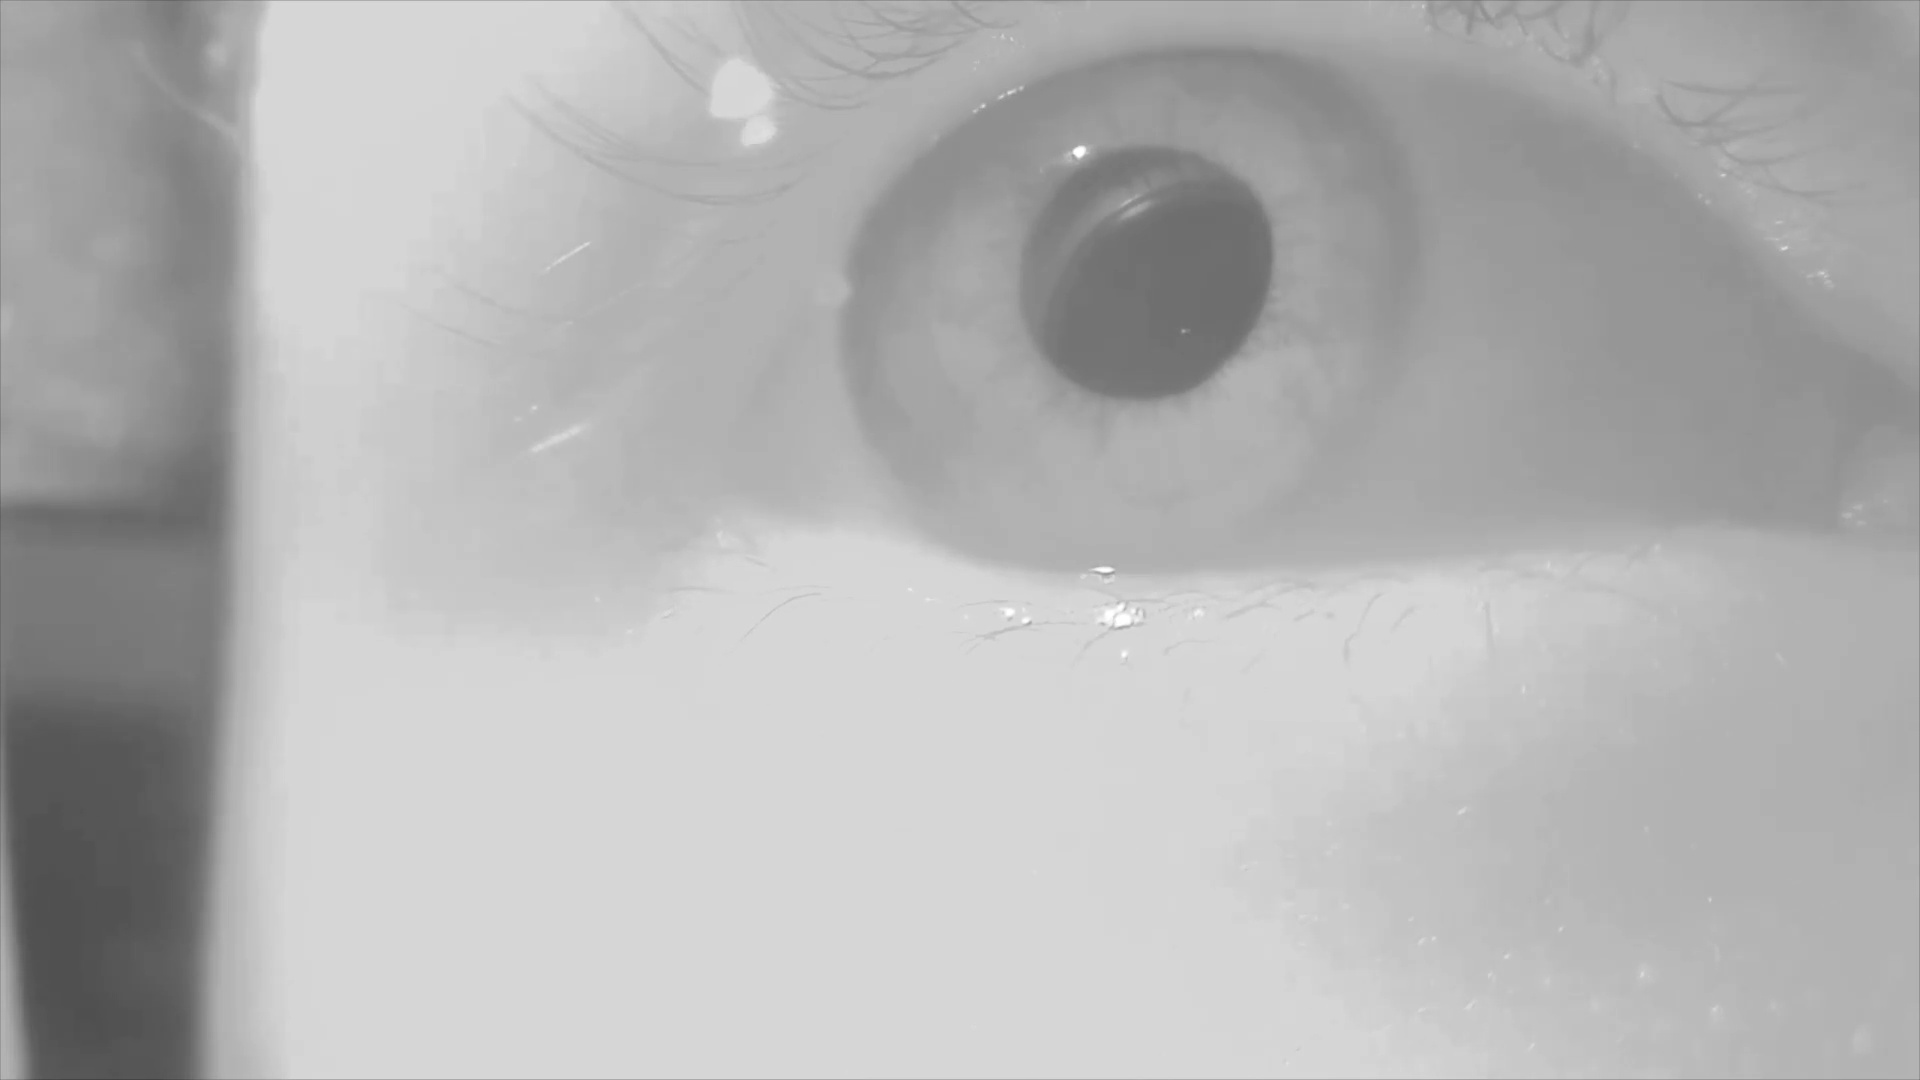pupil: (1019, 143, 1271, 396)
